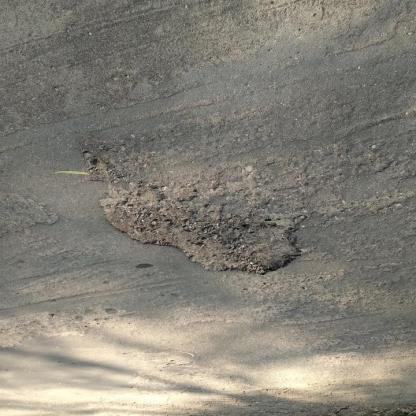pothole: (98, 185, 307, 280)
